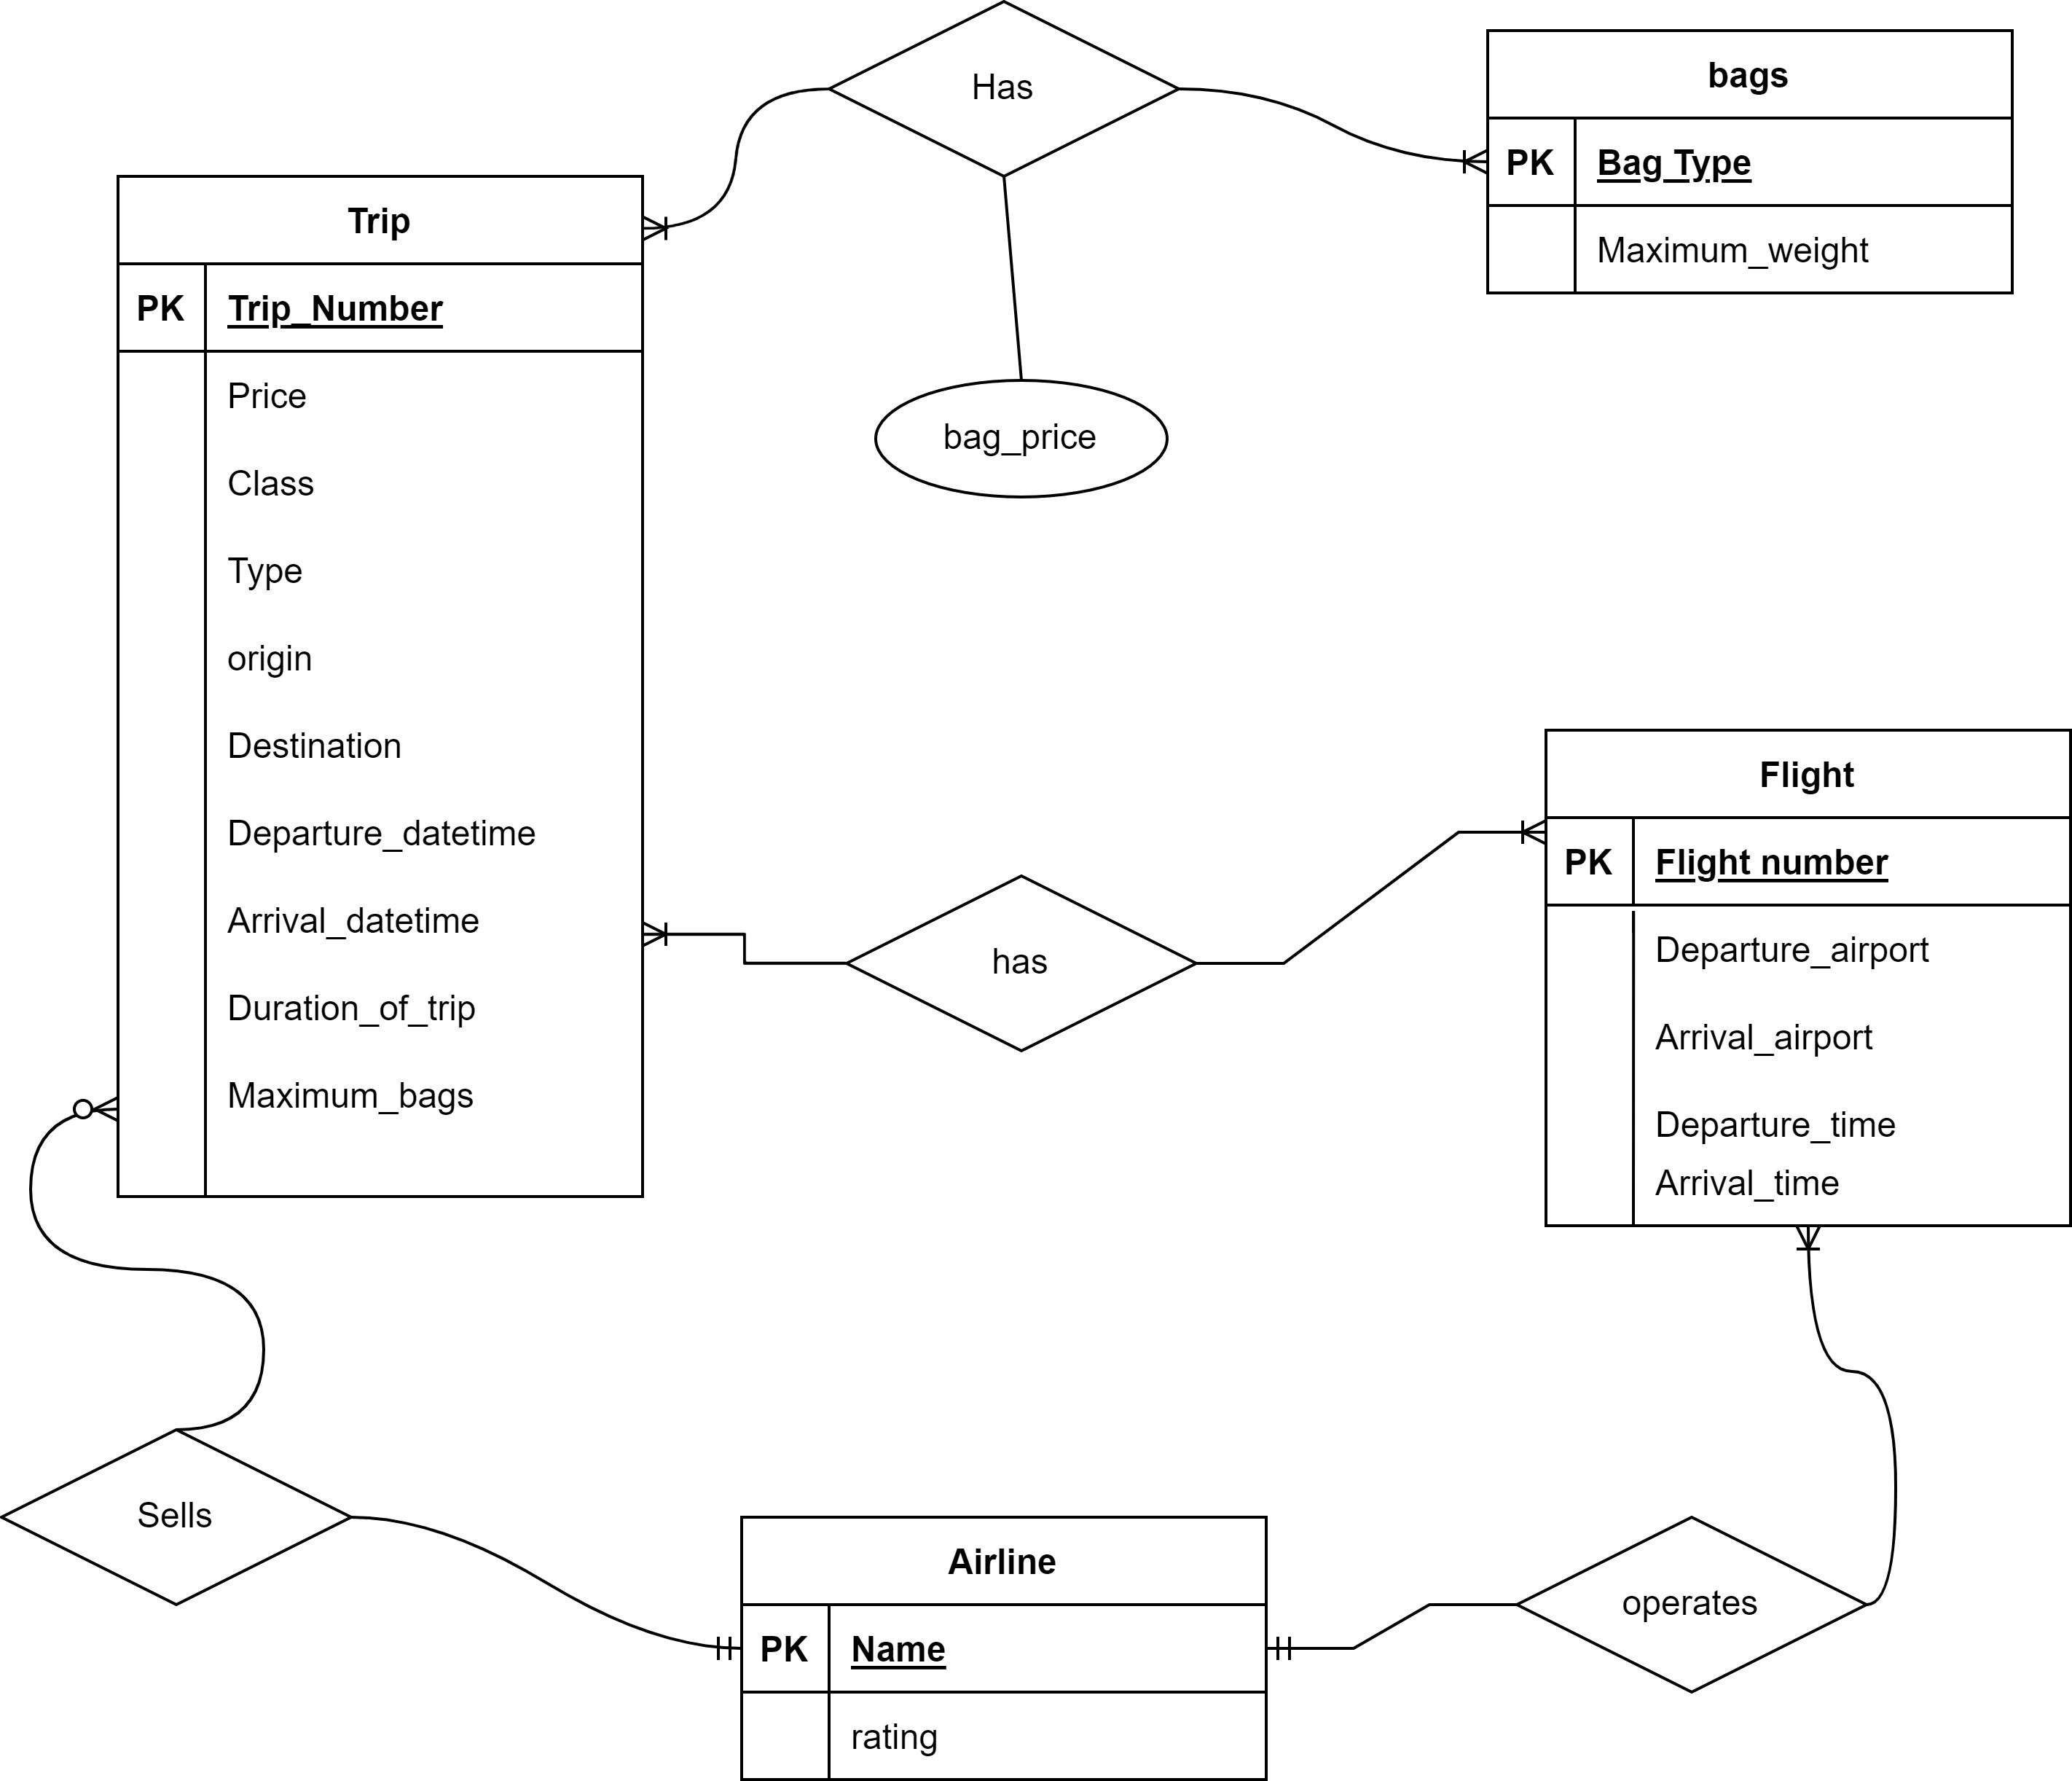attribute: (881, 381, 1168, 500)
entity: (111, 160, 648, 1205), (1538, 717, 2072, 1235), (1485, 23, 2017, 298), (742, 1511, 1270, 1781)
relationship: (846, 870, 1189, 1050), (0, 1427, 349, 1603), (1522, 1517, 1862, 1696), (833, 0, 1175, 174)
